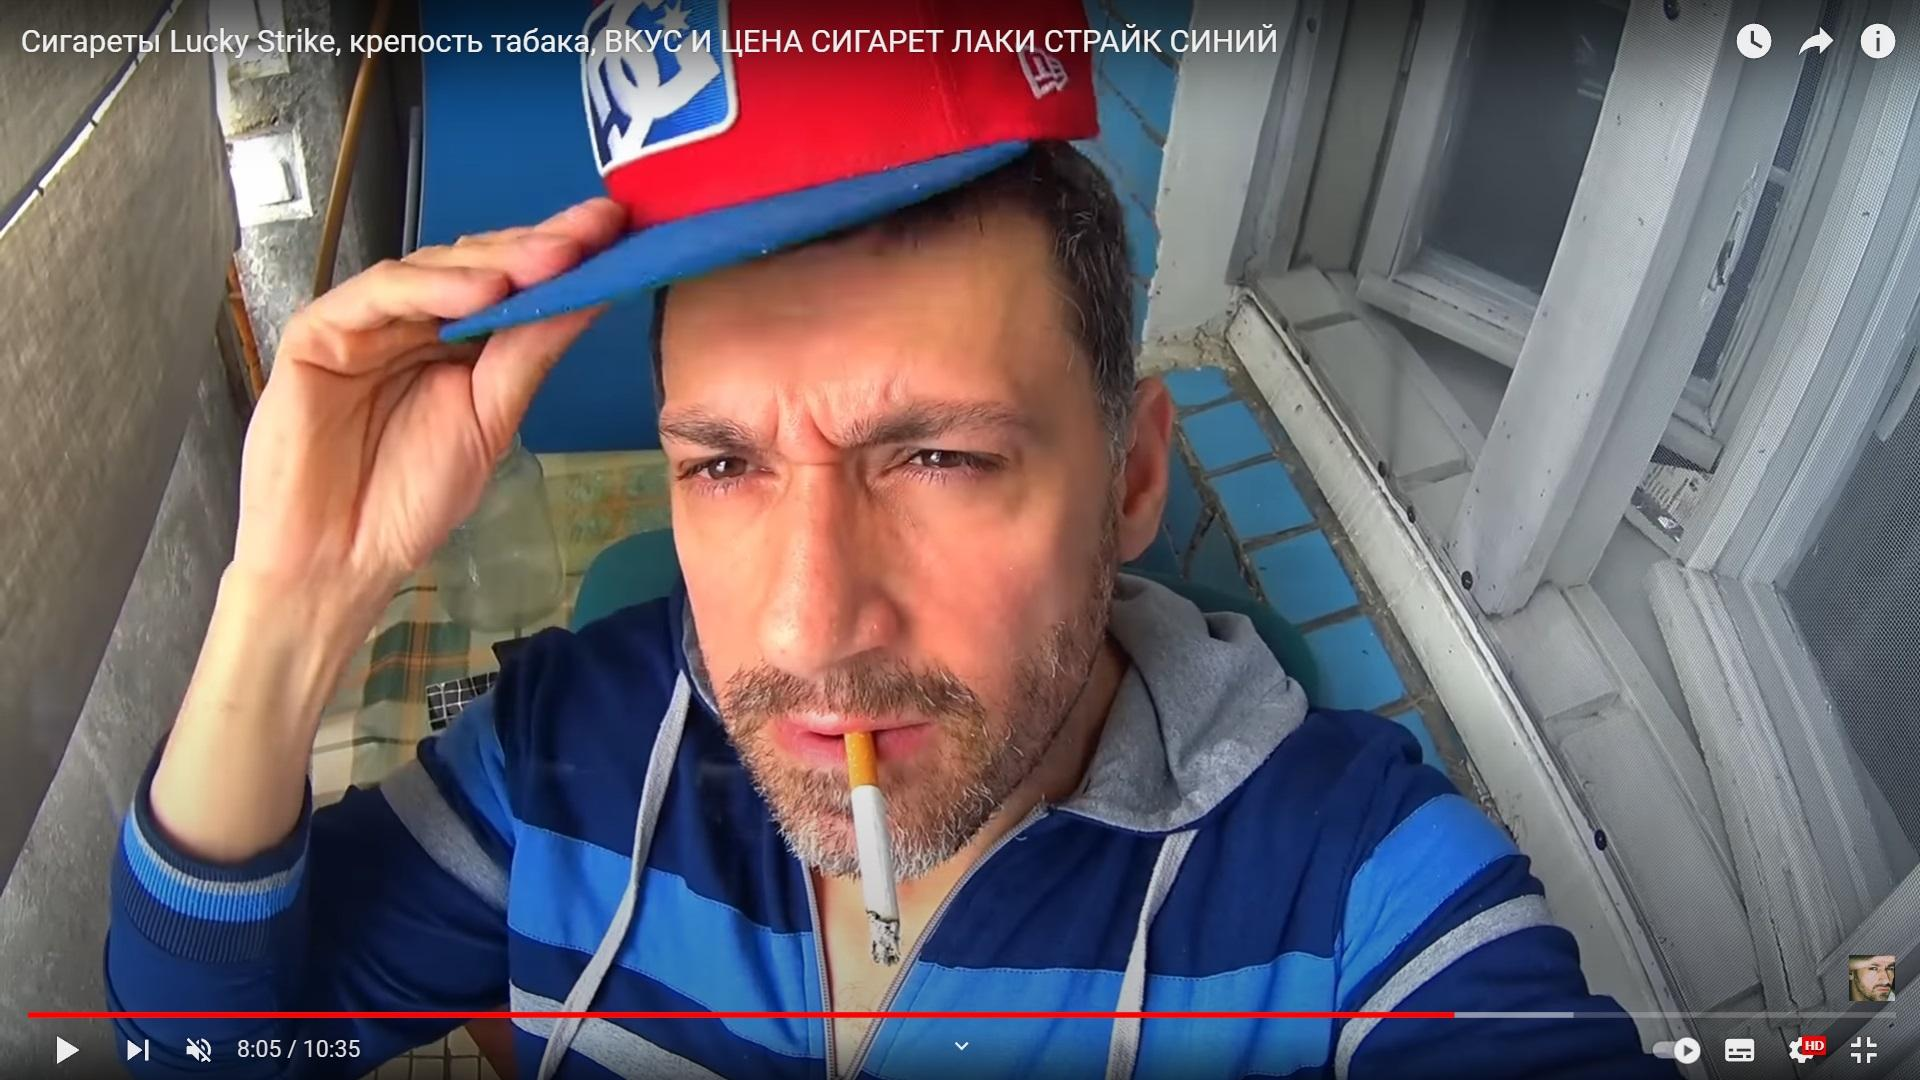cigarette: (844, 729, 902, 965)
